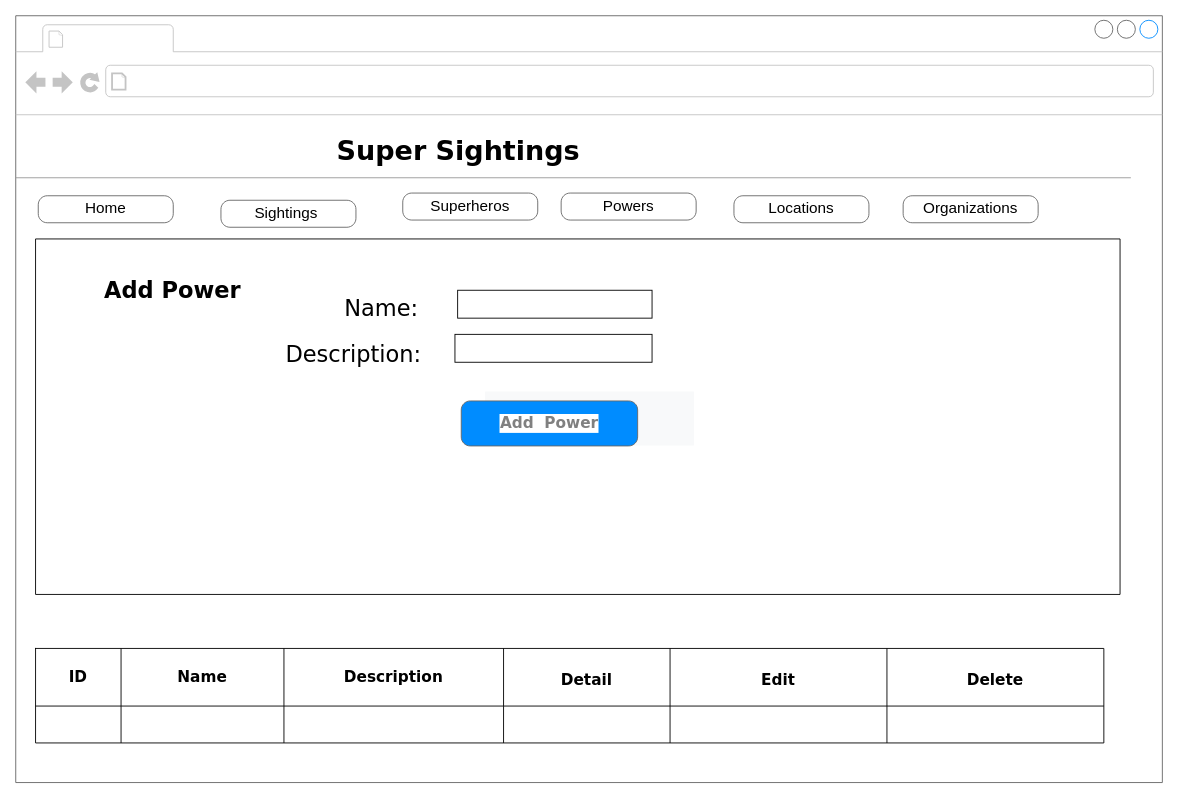
The diagram is 1178 pixels wide and 798 high, and some of its shapes have lost their labels. The shapes that lost their labels are listed below. From the top down, each one's centre as x and y in pixels, then its label:
the point at 119,38: Page 11
the point at 282,81: https://localhost:8080/Powers
